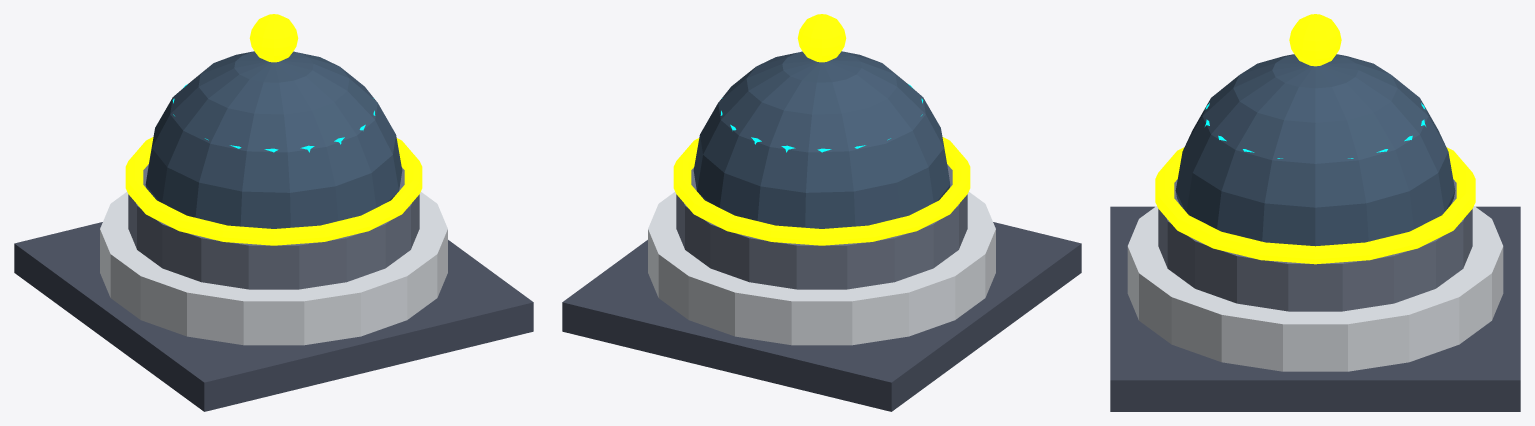
The model's file is landmark_council_dome.glb.
3 views of the same model, side by side, from view 1: azimuth 30°, elevation 25°; view 2: azimuth 150°, elevation 25°; view 3: azimuth 270°, elevation 25° (orthographic). The views are drawn at different scales.
Visible parts, largest first — view 1: geodesic_dome, plinth, amphitheater_base, council_ring, CouncilRingLower, Beacon; view 2: geodesic_dome, plinth, amphitheater_base, council_ring, CouncilRingLower, Beacon; view 3: geodesic_dome, plinth, amphitheater_base, council_ring, CouncilRingLower, Beacon.
Part boxes in pixels (box(x1,y1,x2,y2)): geodesic_dome: box(145, 51, 402, 228); plinth: box(14, 222, 533, 411); amphitheater_base: box(100, 192, 447, 345); council_ring: box(128, 164, 419, 289); CouncilRingLower: box(125, 137, 422, 245); Beacon: box(249, 14, 298, 62); geodesic_dome: box(693, 51, 950, 228); plinth: box(562, 222, 1081, 411); amphitheater_base: box(648, 192, 995, 345); council_ring: box(676, 164, 967, 289); CouncilRingLower: box(673, 137, 970, 245); Beacon: box(797, 14, 846, 62); geodesic_dome: box(1175, 54, 1455, 246); plinth: box(1110, 206, 1520, 411); amphitheater_base: box(1127, 206, 1503, 371); council_ring: box(1158, 179, 1472, 311); CouncilRingLower: box(1155, 147, 1475, 264); Beacon: box(1289, 14, 1341, 66).
Bounding box in the file's own units: 0.94 × 0.78 × 0.94.
